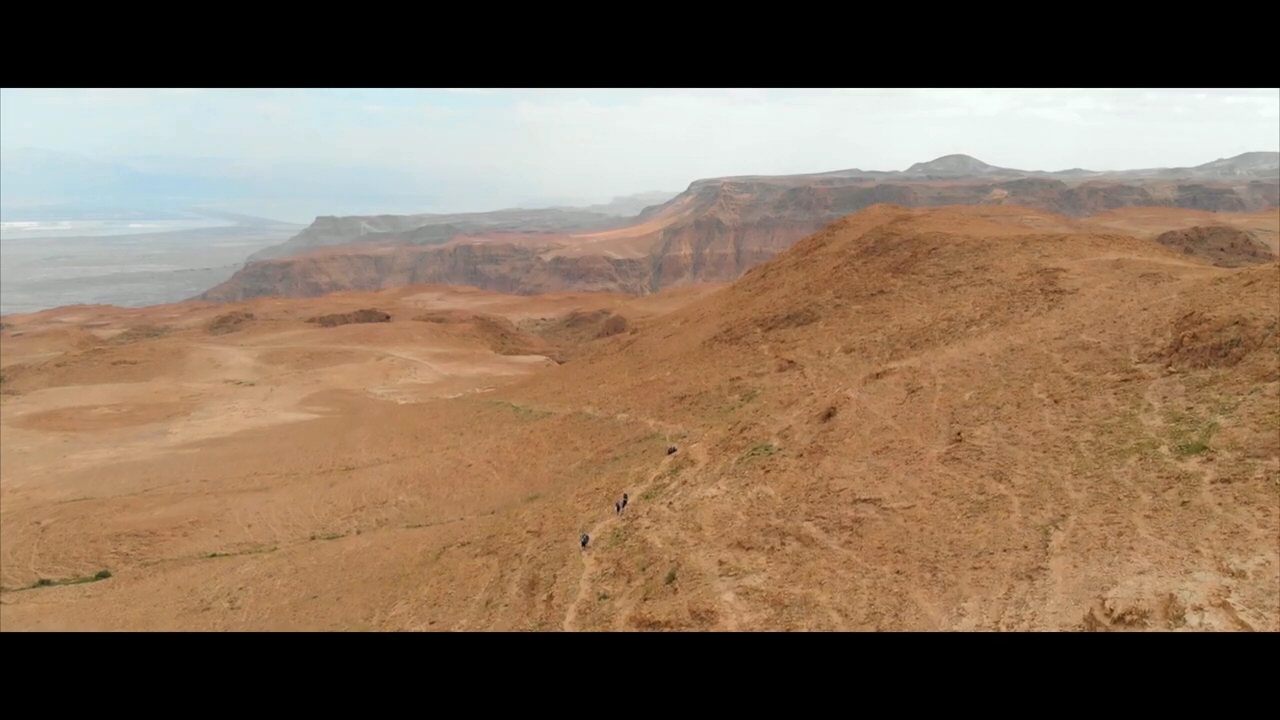insan: (614, 501, 621, 517), (621, 499, 628, 512)
